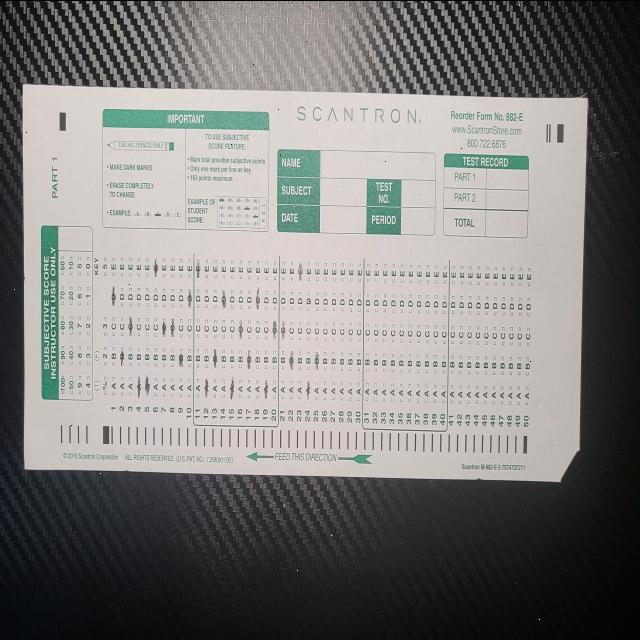scantron: (22, 82, 588, 482)
